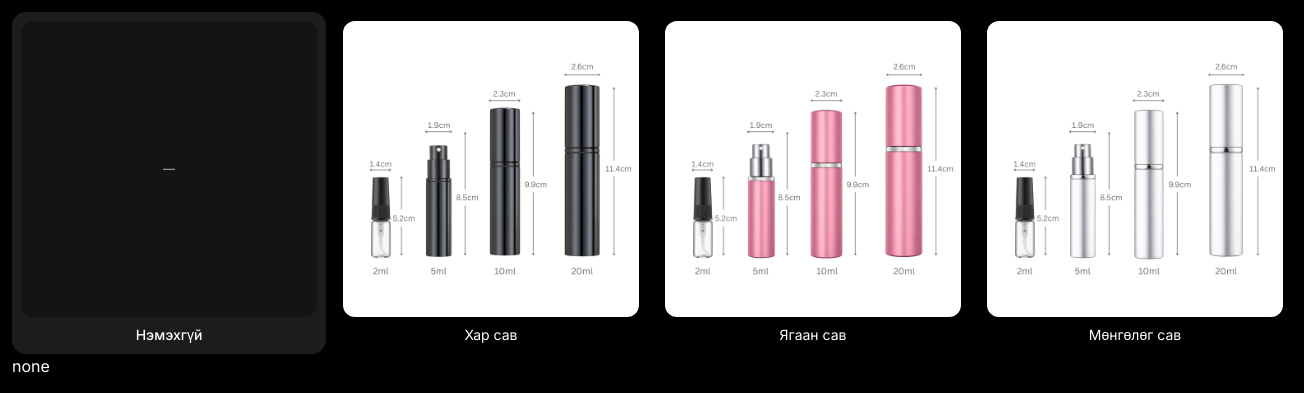
Test: BottleStylePicker › сав сонгоход зөвхөн тэр нь сонгогдоно
Click the radio button labelled "Ягаан сав" at (813, 183), box [656, 12, 970, 354]
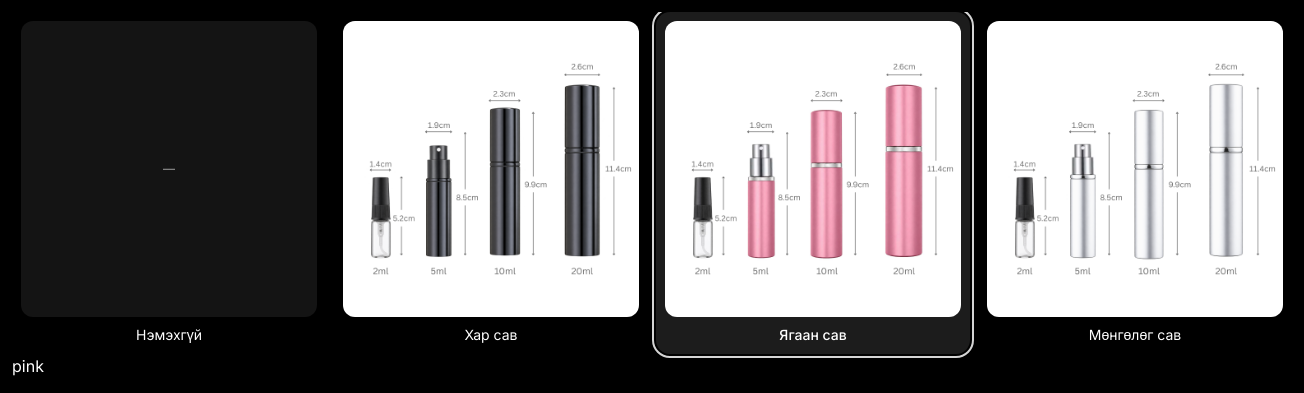
Check: the text with test id "value" reads "pink", box [12, 356, 44, 376]
